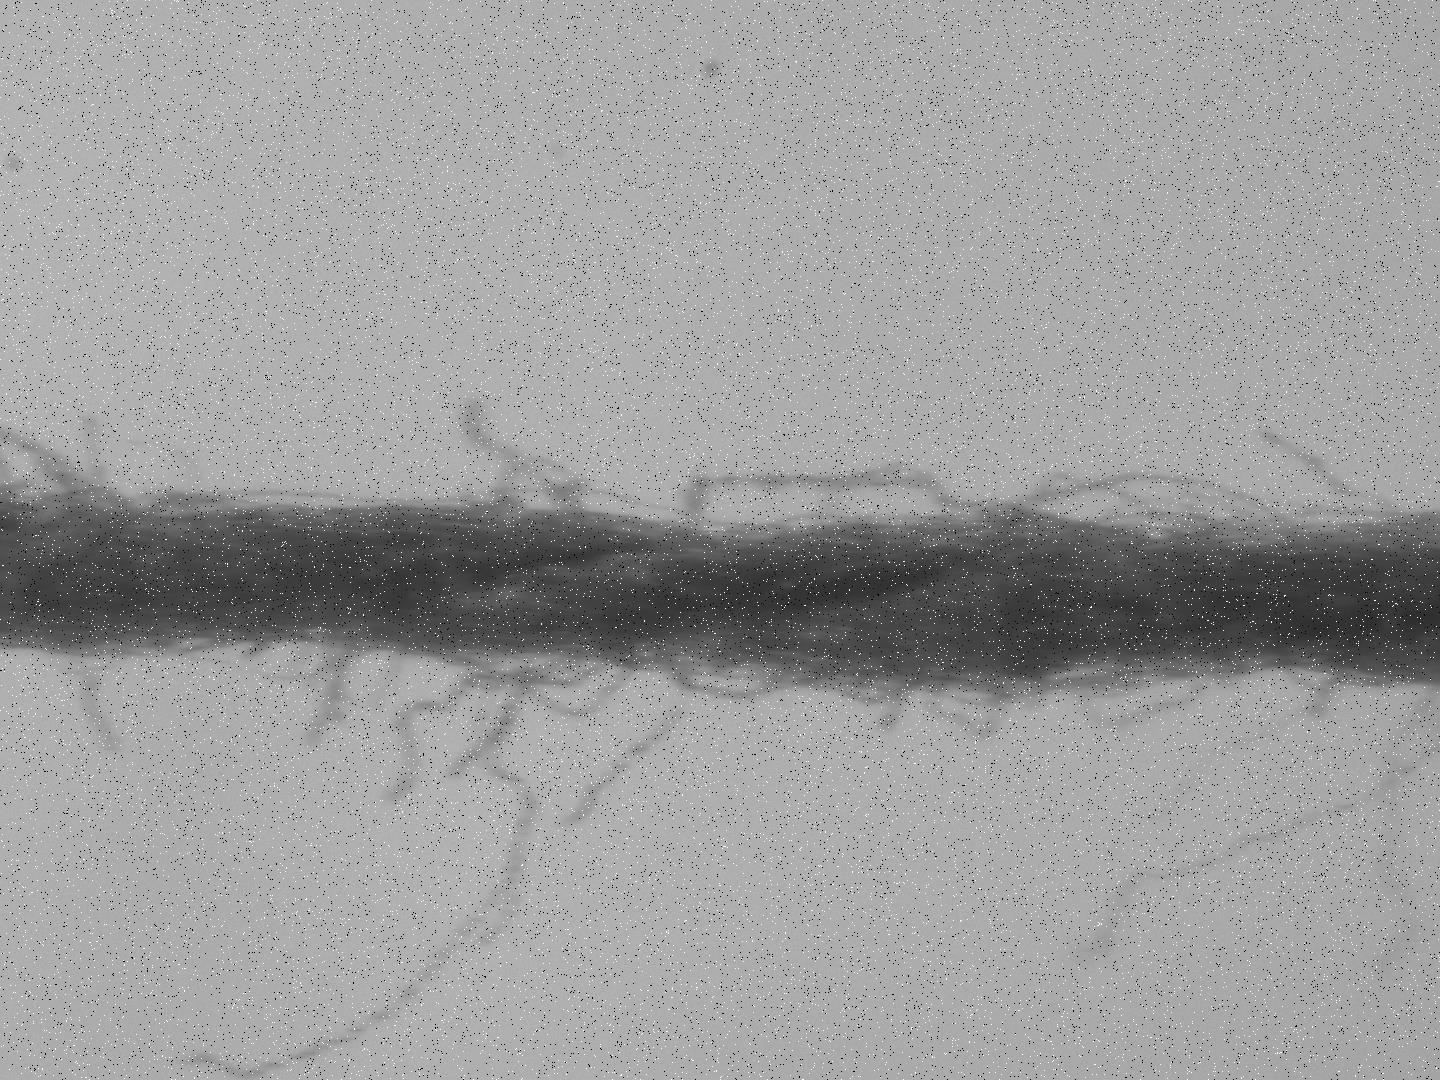loop_fiber: (672, 458, 1051, 534), (1005, 466, 1313, 541)
protruding_fiber: (1140, 672, 1331, 833), (564, 668, 710, 828), (1369, 691, 1429, 976)
